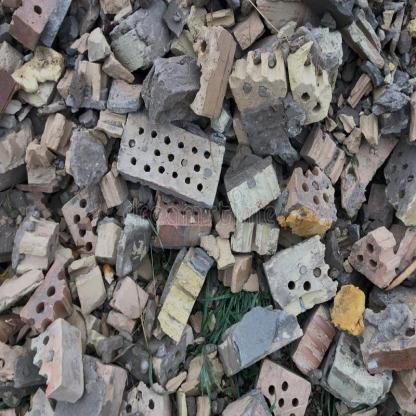brick: (2, 1, 414, 413)
